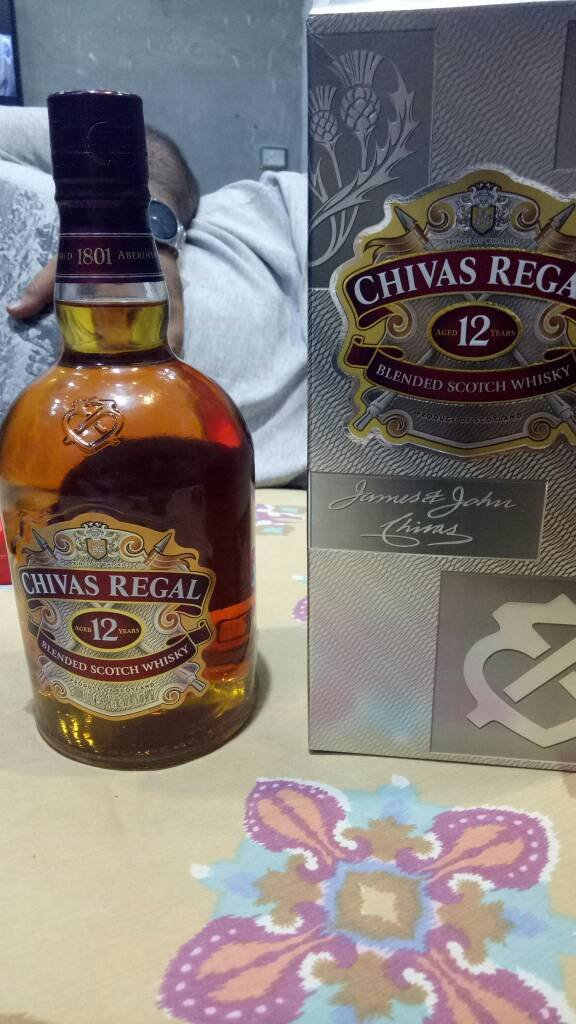Chivas Regal: (1, 81, 264, 778)
